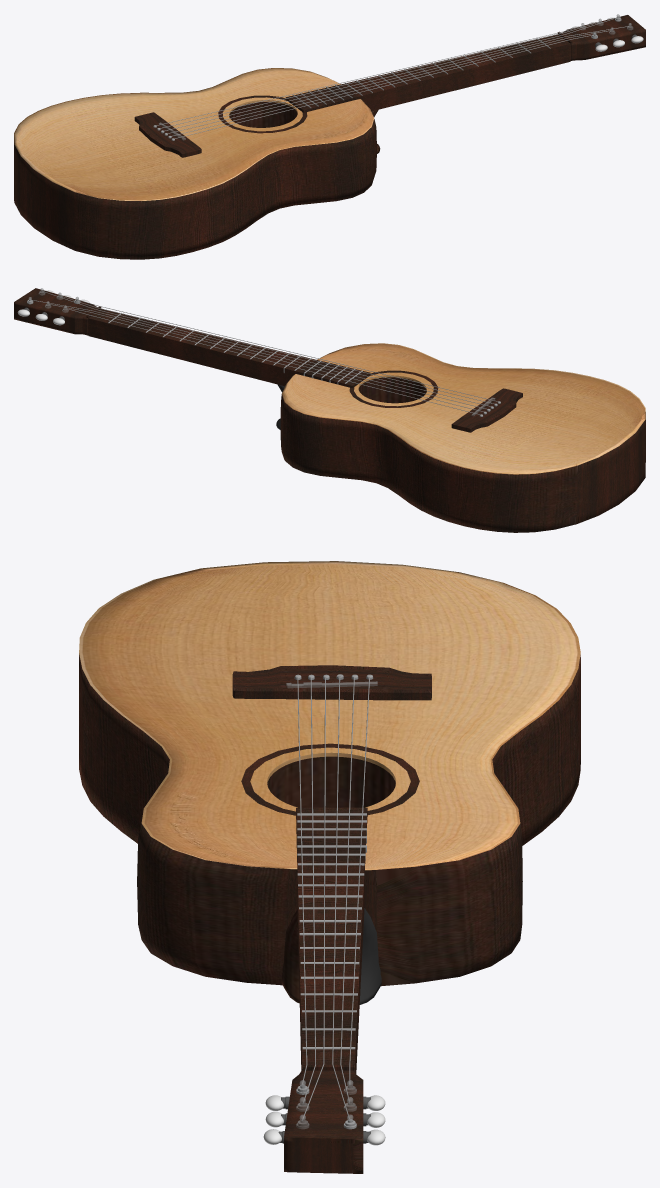
Rendered from Acc_Guitar.fbx.
3 renders of one model, top to bottom at view 1: azimuth 30°, elevation 25°; view 2: azimuth 150°, elevation 25°; view 3: azimuth 270°, elevation 25°, orthographic. The views are drawn at different scales.
Parts seen in each view (by area): view 1: polySurface1; view 2: polySurface1; view 3: polySurface1.
Boxes of the visible parts, x1=… form: polySurface1: x1=14, y1=14, x2=645, y2=259; polySurface1: x1=14, y1=288, x2=645, y2=532; polySurface1: x1=79, y1=561, x2=580, y2=1173.
Bounding box in the file's own units: 21.16 × 2.28 × 7.68.
Materials: 21 (2 with a texture image).
